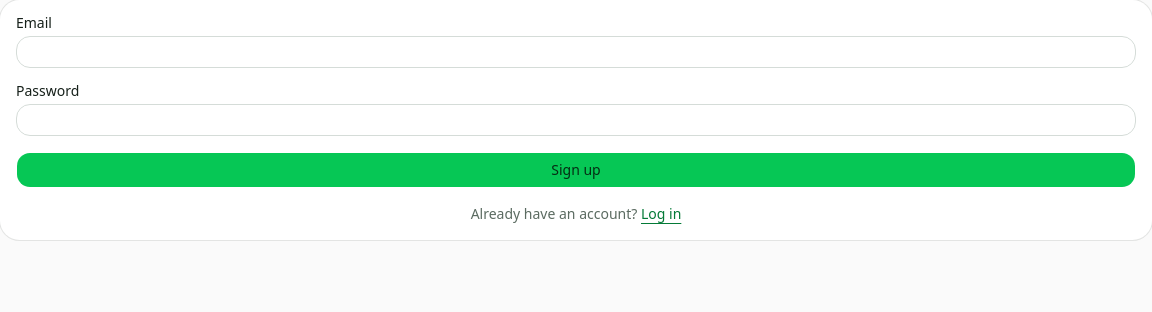
Test: 422 invalid_email shows a clear message and stays on the form
Step 1. Type "new@x.io" into the field labelled "Email" → (576,52), box [16,36,1136,68]
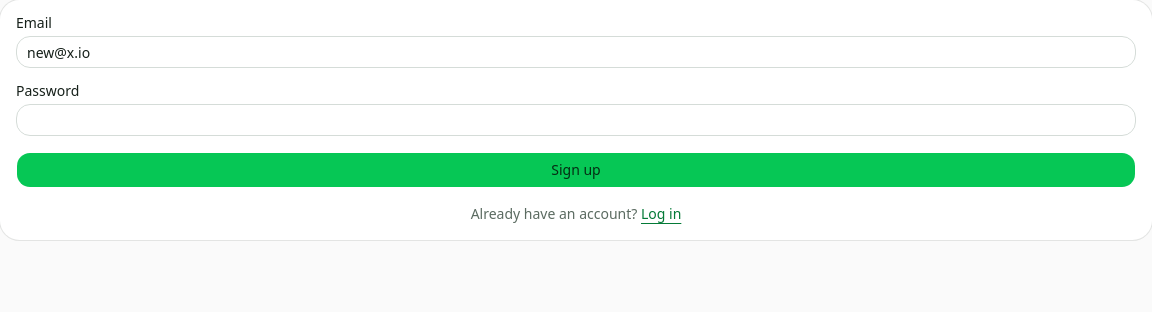
Step 2. Type "correct-horse-battery" into the password field labelled "Password" → (576,120), box [16,104,1136,136]
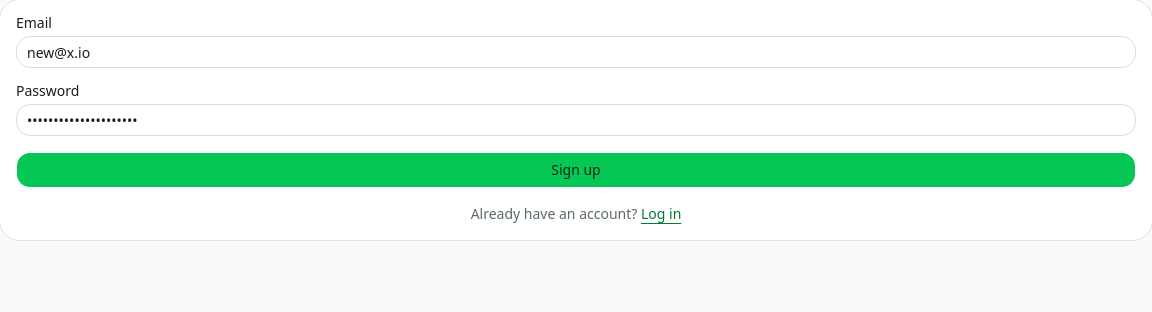
Step 3. Click the button "Sign up" → (576,170), box [16,152,1136,188]
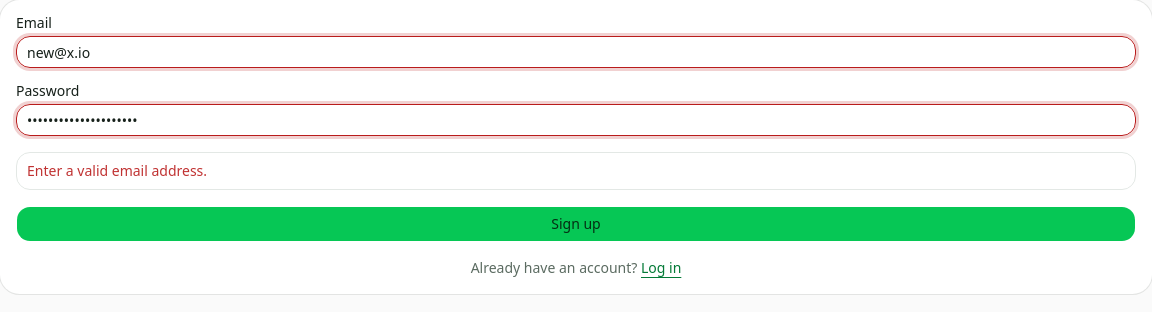
Now the message shows "valid email address", box [27,161,207,180]
